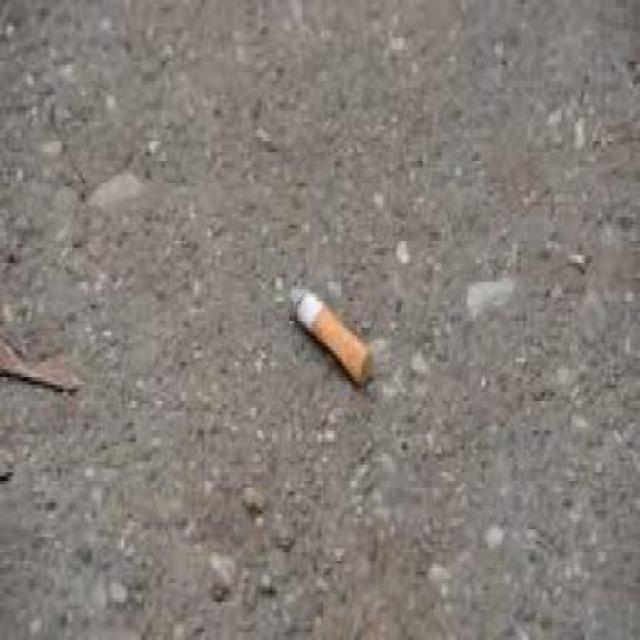cigarette: (287, 270, 391, 408)
